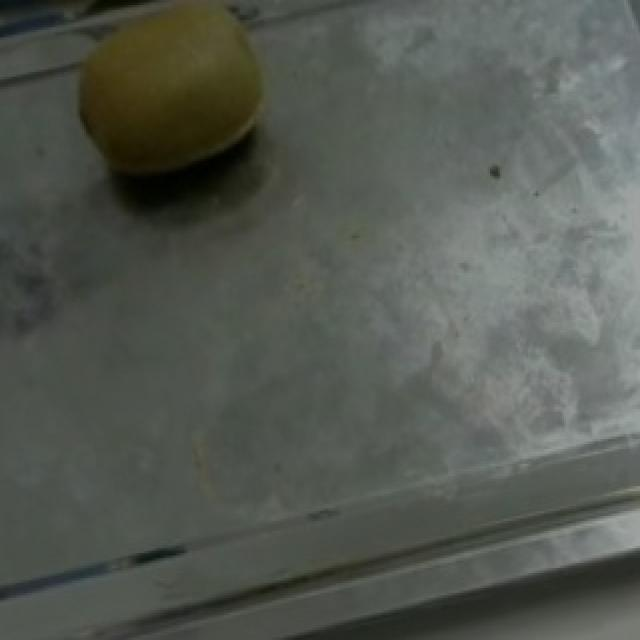Fruit: (46, 0, 300, 196)
